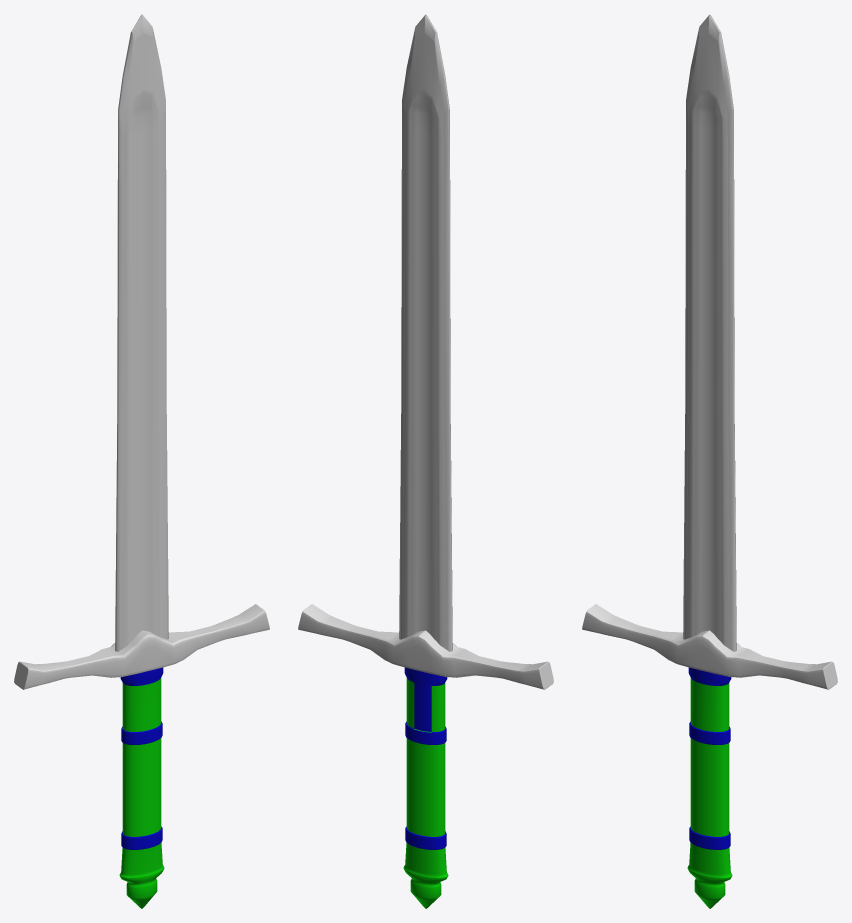
File: Prop_Weapon_LongSword_01.fbx
The picture shows the model from 3 angles, left to right: view 1: azimuth 30°, elevation 25°; view 2: azimuth 150°, elevation 25°; view 3: azimuth 330°, elevation 25°; orthographic projection.
Visible parts, largest first — view 1: Sword_Blade, Handle, Sword_Handguard; view 2: Sword_Blade, Handle, Sword_Handguard; view 3: Sword_Blade, Handle, Sword_Handguard.
Part boxes in pixels (x1=…): Sword_Blade: x1=115, y1=14, x2=168, y2=651; Handle: x1=119, y1=667, x2=164, y2=908; Sword_Handguard: x1=14, y1=604, x2=269, y2=689; Sword_Blade: x1=399, y1=14, x2=452, y2=651; Handle: x1=403, y1=667, x2=448, y2=908; Sword_Handguard: x1=298, y1=604, x2=553, y2=689; Sword_Blade: x1=683, y1=14, x2=736, y2=651; Handle: x1=687, y1=667, x2=732, y2=908; Sword_Handguard: x1=582, y1=604, x2=837, y2=689.
Bounding box in the file's own units: 0.3169 × 1.1 × 0.0346.
